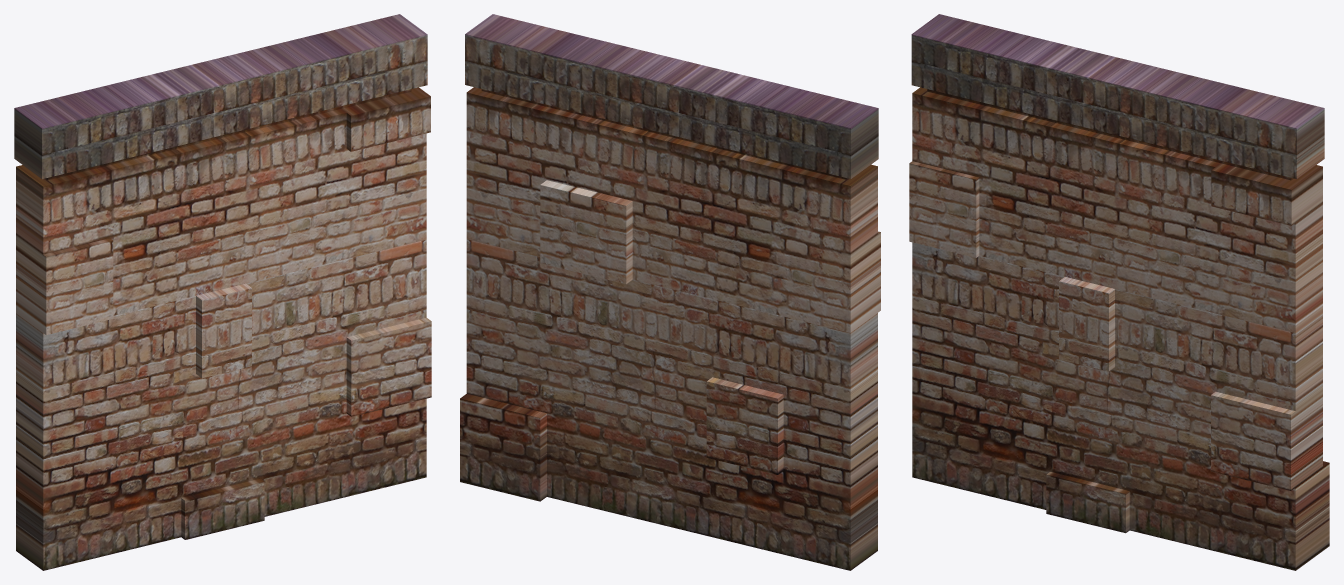
Rendered from Wall_2.fbx.
The picture shows the model from 3 angles, left to right: view 1: azimuth 30°, elevation 25°; view 2: azimuth 150°, elevation 25°; view 3: azimuth 330°, elevation 25°; orthographic projection.
Visible parts, largest first — view 1: Wall_2; view 2: Wall_2; view 3: Wall_2.
Boxes of the visible parts, x1,y1,x2,y2 form: Wall_2: (14, 14, 431, 570); Wall_2: (460, 14, 880, 570); Wall_2: (909, 14, 1329, 570).
Bounding box in the file's own units: 73.45 × 80.63 × 13.17.
Materials: 1 (1 with a texture image).
